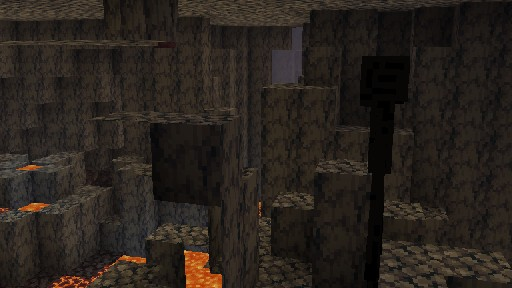enderman: (359, 54, 410, 288)
